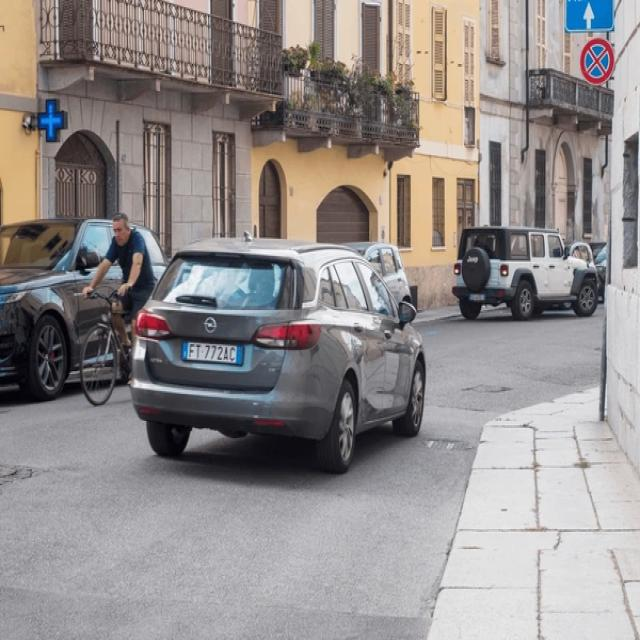opel: (203, 317, 218, 336)
